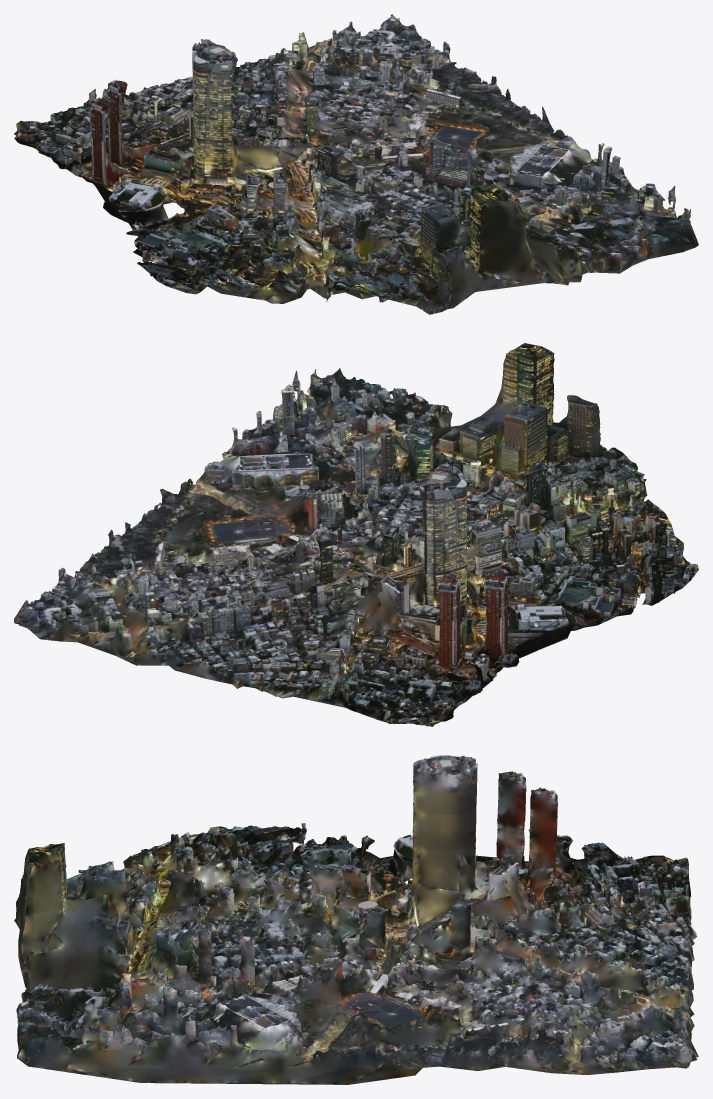
Rendered from osaka-lo.glb.
3 views of the same model, one above another, from view 1: azimuth 30°, elevation 25°; view 2: azimuth 150°, elevation 25°; view 3: azimuth 270°, elevation 25° (orthographic). The views are drawn at different scales.
Visible parts, largest first — view 1: meshNode_Material_u1_v1_0; view 2: meshNode_Material_u1_v1_0; view 3: meshNode_Material_u1_v1_0.
Boxes of the visible parts, x1,y1,x2,y2 form: meshNode_Material_u1_v1_0: (14, 14, 698, 314); meshNode_Material_u1_v1_0: (14, 343, 698, 726); meshNode_Material_u1_v1_0: (14, 755, 698, 1084).
Size of the model in its own units: 49.04 by 16.78 by 58.84.
Materials: 1 (1 with a texture image).
